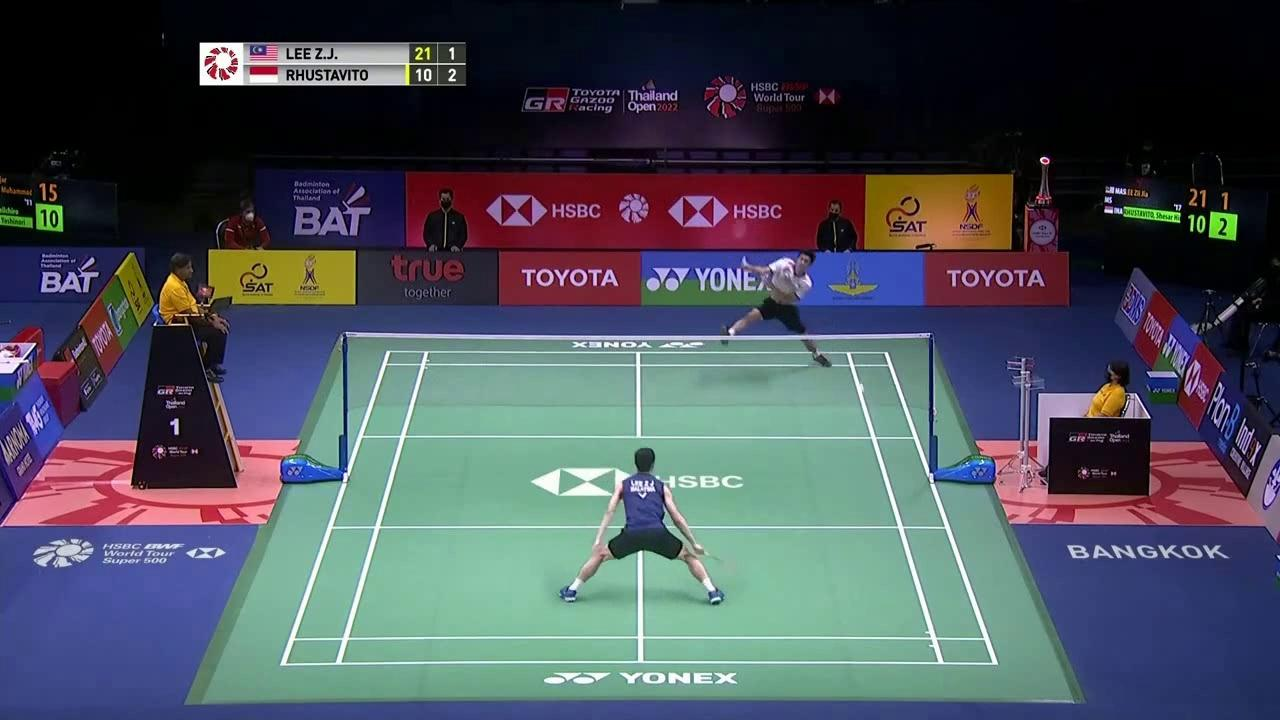racket: (732, 220, 747, 267), (694, 546, 724, 563)
shuttle: (857, 382, 865, 393)
